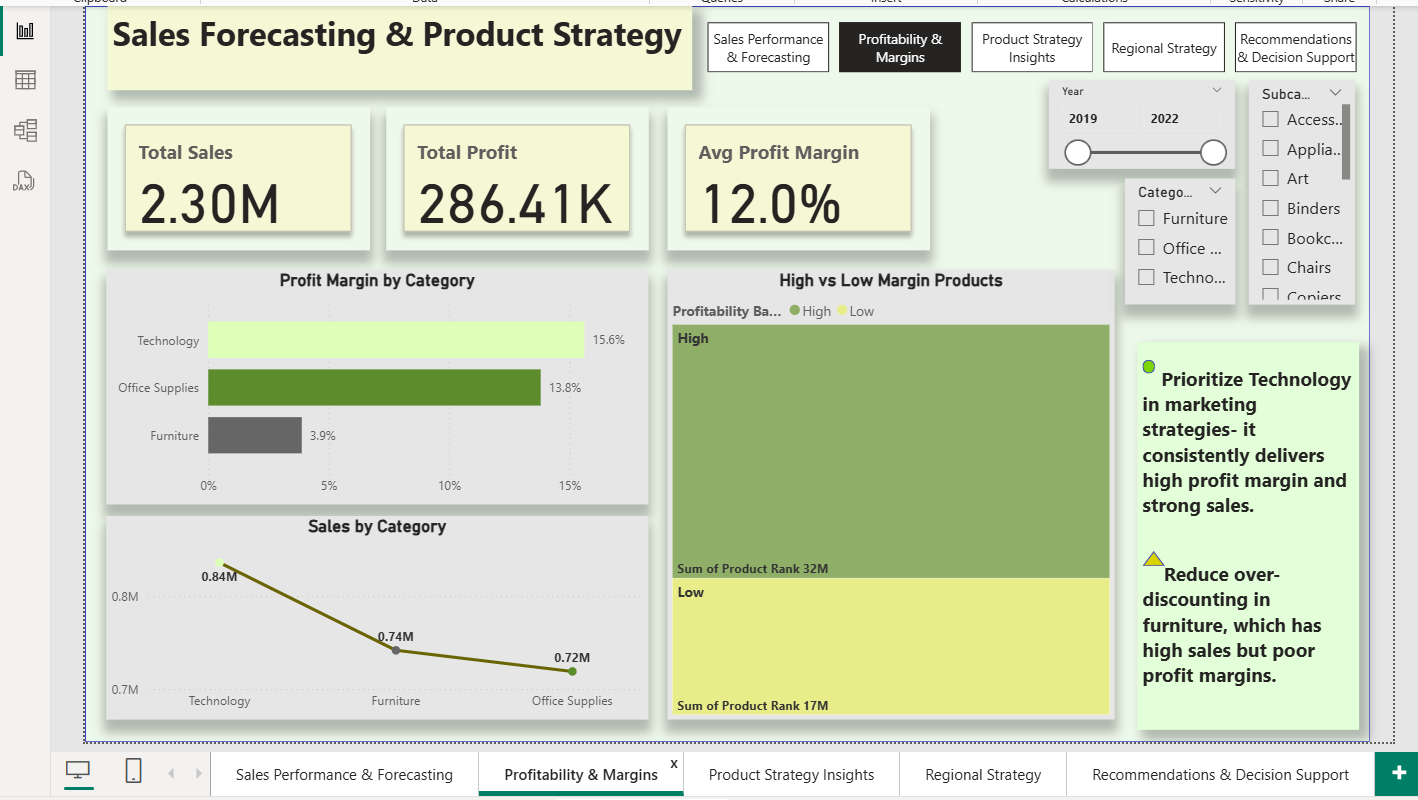

The page's visual inventory and layout, read from the dashboard file:
{"tool":"powerbi","page":{"name":"Profitability & Margins","canvas":[1280,720],"ordinal":1},"visuals":[{"type":"shape","box":[0,0,1257.1,720.2],"z":0},{"type":"group","id":"g1","title":"Group 1","box":[1029.6,328.9,216.4,379.1],"z":0,"group":"g2"},{"type":"textbox","box":[1029.6,328.9,216.4,379.1],"z":0,"group":"g1"},{"type":"textbox","box":[22,0,572.2,82.3],"z":1000},{"type":"shape","box":[1034.5,346,12.2,13.5],"z":1000,"group":"g1"},{"type":"shape","box":[1034.5,533.1,22,14.7],"z":1000,"group":"g2"},{"type":"cardVisual","fields":{"Data":["Superstore-Cleaned_Data.Total Sales"]},"box":[22,98.8,256.6,140],"z":2000},{"type":"cardVisual","fields":{"Data":["Superstore-Cleaned_Data.Total Profit"]},"box":[295,98.8,256.6,140],"z":3000},{"type":"cardVisual","fields":{"Data":["Superstore-Cleaned_Data.Avg Profit Margin"]},"box":[569.5,98.8,256.6,140],"z":4000},{"type":"pageNavigator","box":[609.3,16.5,636.7,49.4],"z":5000},{"type":"barChart","title":" Profit Margin by Category","fields":{"Category":["Superstore-Cleaned_Data.Category"],"Y":["Superstore-Cleaned_Data.Avg Profit Margin"]},"box":[21.4,258,530.2,229.5],"z":6000},{"type":"treemap","title":"High vs Low Margin Products","fields":{"Values":["Sum(Superstore-Cleaned_Data.Profit_Margin)","Sum(Superstore-Cleaned_Data.Product Rank)"],"Group":["Superstore-Cleaned_Data.Profitability Band"]},"box":[569.8,258,437.8,440.2],"z":7000},{"type":"lineChart","title":"Sales by Category","fields":{"Category":["Superstore-Cleaned_Data.Category"],"Y":["Superstore-Cleaned_Data.Total Sales"]},"box":[21.4,498.9,530.2,199.6],"z":8000},{"type":"slicer","fields":{"Values":["Superstore-Cleaned_Data.Year"]},"box":[942.8,72.1,182.2,86.8],"z":9000},{"type":"slicer","fields":{"Values":["Superstore-Cleaned_Data.Subcategory"]},"box":[1138.5,72.1,103.9,220.1],"z":10000},{"type":"slicer","fields":{"Values":["Superstore-Cleaned_Data.Category"]},"box":[1017.4,168.8,107.6,123.5],"z":11000},{"type":"group","id":"g2","title":"Group 2","box":[1029.6,328.9,216.4,379.1],"z":12004}]}

Visuals, with their boxes on the page's 1280x720 design canvas (x1, y1, x2, y2). These are canvas units, not pixel positions in the 1418x800 screenshot, which may show the page scaled, cropped or inside an application window:
shape: (left=0, top=0, right=1257, bottom=720)
"Group 1" group: (left=1030, top=329, right=1246, bottom=708)
textbox: (left=1030, top=329, right=1246, bottom=708)
textbox: (left=22, top=0, right=594, bottom=82)
shape: (left=1034, top=346, right=1047, bottom=360)
shape: (left=1034, top=533, right=1056, bottom=548)
cardVisual - Superstore-Cleaned_Data.Total Sales: (left=22, top=99, right=279, bottom=239)
cardVisual - Superstore-Cleaned_Data.Total Profit: (left=295, top=99, right=552, bottom=239)
cardVisual - Superstore-Cleaned_Data.Avg Profit Margin: (left=570, top=99, right=826, bottom=239)
pageNavigator: (left=609, top=16, right=1246, bottom=66)
" Profit Margin by Category" barChart: (left=21, top=258, right=552, bottom=488)
"High vs Low Margin Products" treemap: (left=570, top=258, right=1008, bottom=698)
"Sales by Category" lineChart: (left=21, top=499, right=552, bottom=698)
slicer - Superstore-Cleaned_Data.Year: (left=943, top=72, right=1125, bottom=159)
slicer - Superstore-Cleaned_Data.Subcategory: (left=1138, top=72, right=1242, bottom=292)
slicer - Superstore-Cleaned_Data.Category: (left=1017, top=169, right=1125, bottom=292)
"Group 2" group: (left=1030, top=329, right=1246, bottom=708)
